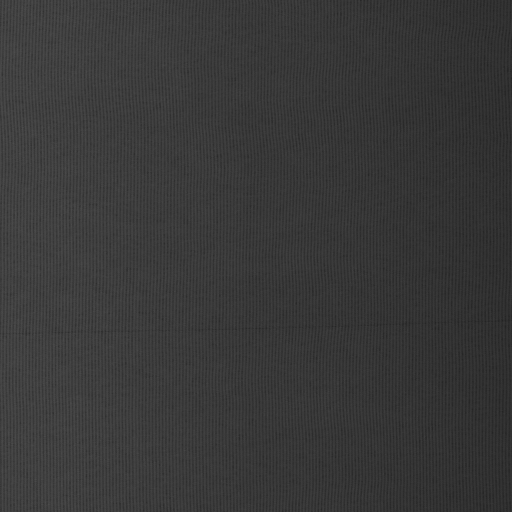defect: (1, 314, 512, 342)
